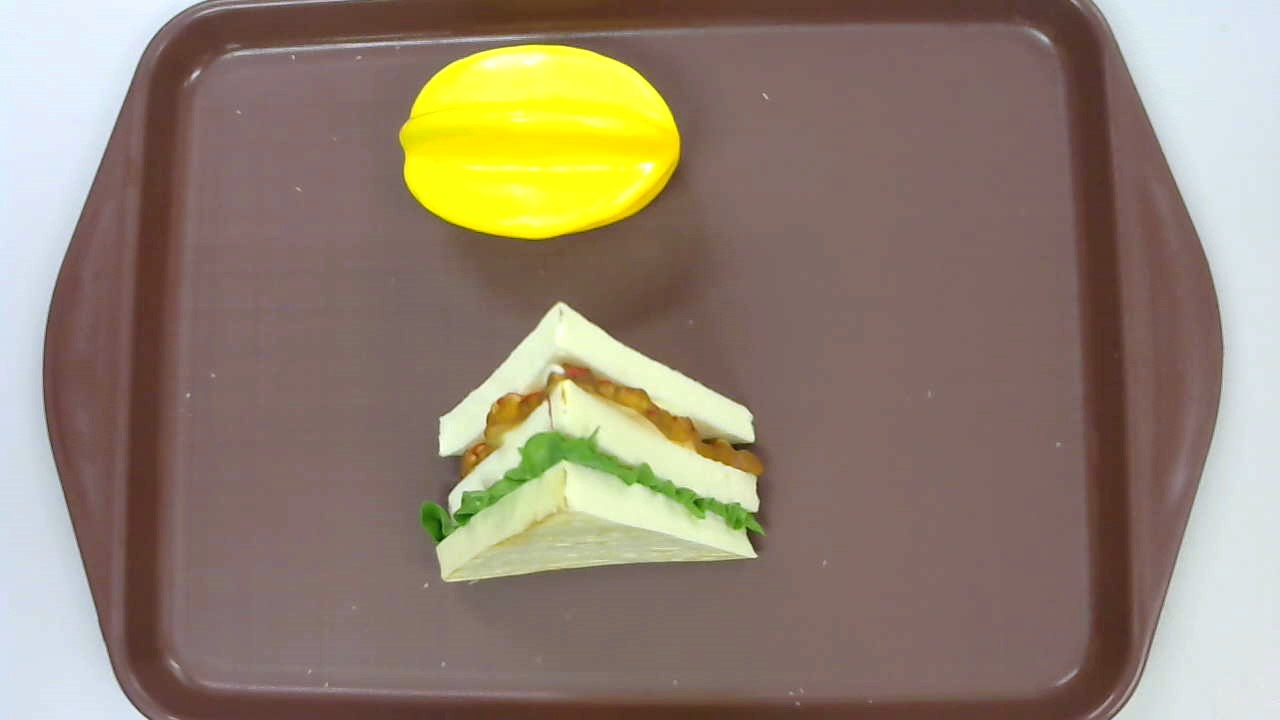sandwich: (415, 300, 768, 585)
star fruit: (398, 45, 682, 240)
